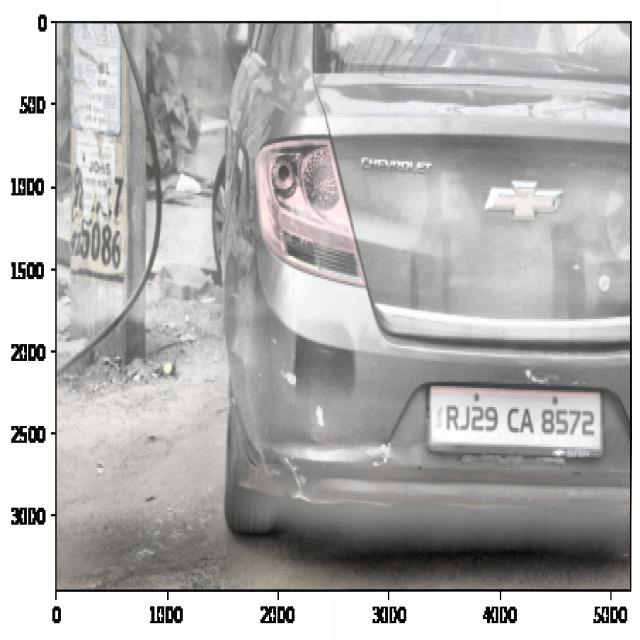license_plate: (442, 392, 599, 446)
